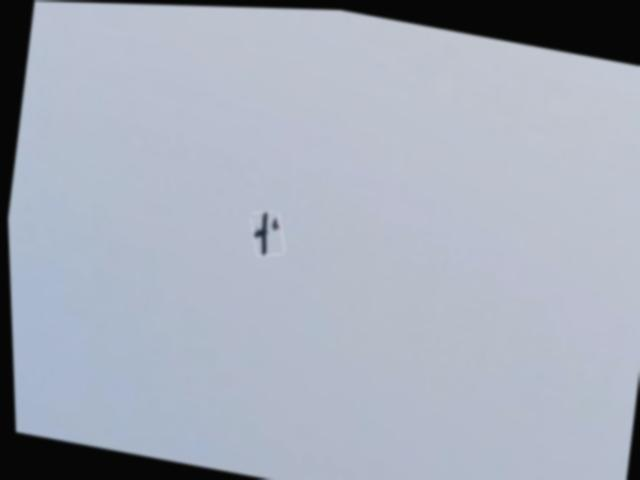insansiz-hava-araci: (244, 206, 286, 258)
